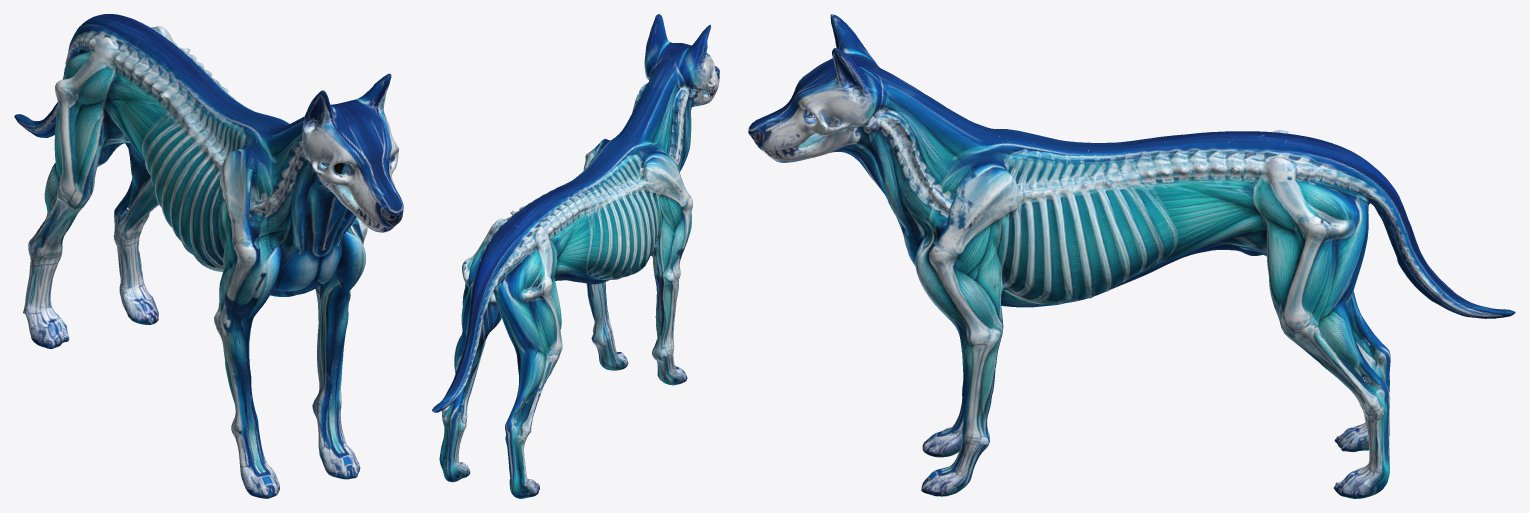
The model's file is dog-muscle-bone.glb.
The picture shows the model from 3 angles, left to right: view 1: azimuth 30°, elevation 25°; view 2: azimuth 150°, elevation 25°; view 3: azimuth 270°, elevation 25°; orthographic projection. The views are drawn at different scales.
Parts seen in each view (by area): view 1: Mesh1.0; view 2: Mesh1.0; view 3: Mesh1.0.
Boxes of the visible parts, box(x1,y1,x2,y2) form: Mesh1.0: box(14, 14, 403, 498); Mesh1.0: box(432, 14, 719, 498); Mesh1.0: box(748, 14, 1515, 498).
Size of the model in its own units: 0.3709 by 1.22 by 1.92.
1 material, 1 textured.
